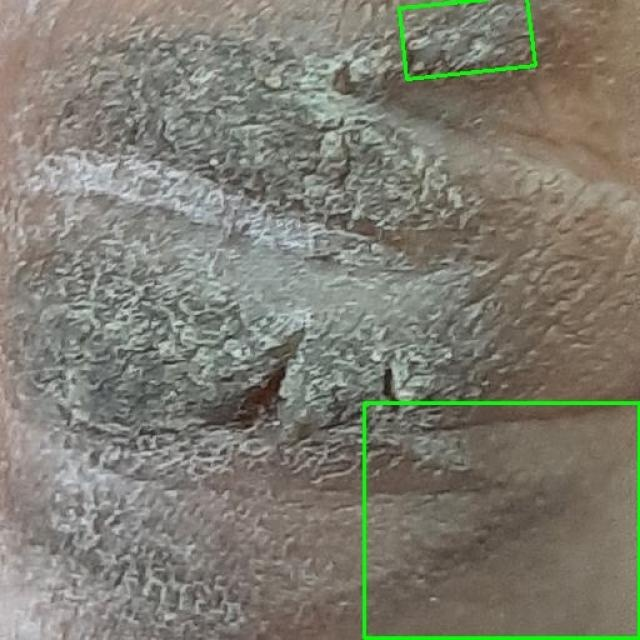Contact Dermatitis: (364, 404, 639, 639), (399, 0, 535, 80)
